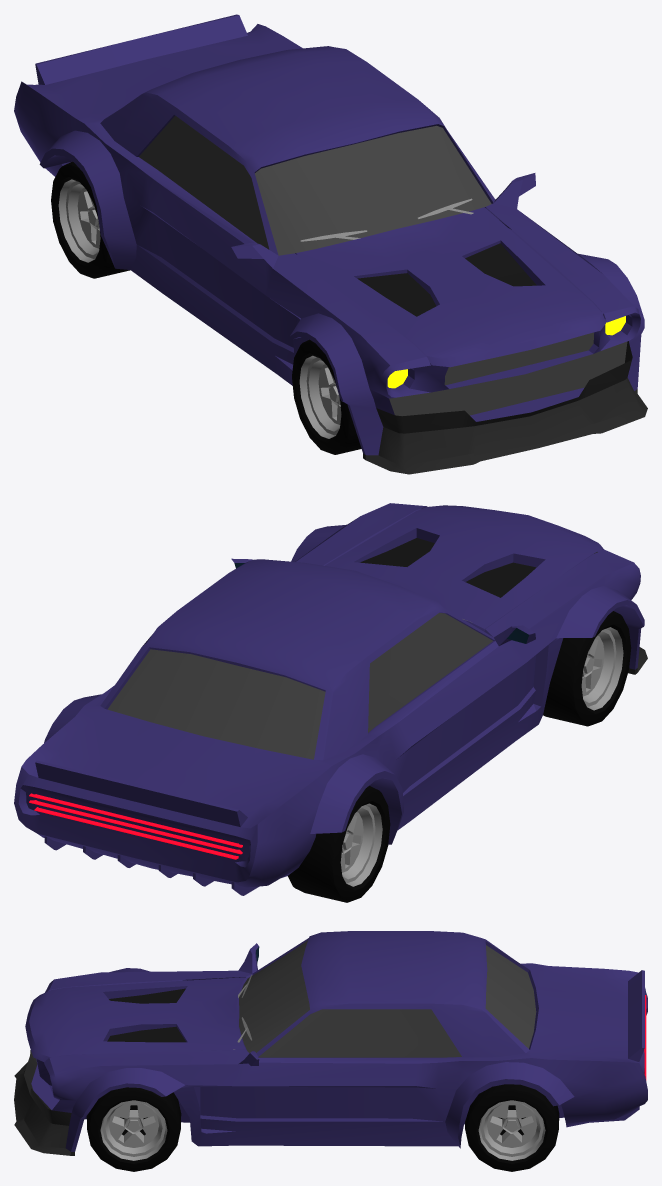
Rendered from Apex.glb.
The picture shows the model from 3 angles, top to bottom: view 1: azimuth 30°, elevation 25°; view 2: azimuth 150°, elevation 25°; view 3: azimuth 270°, elevation 25°; orthographic projection. The views are drawn at different scales.
Visible parts, largest first — view 1: Body.002, WheelFronRight.001, WheelBackRright.001; view 2: Body.002, WheelFronRight.001, WheelBackRright.001, Body.004; view 3: Body.002, WheelBackLeft.001, WheelFrontLeft.001.
Boxes of the visible parts, x1,y1,x2,y2 form: Body.002: (14, 14, 647, 474); WheelFronRight.001: (292, 339, 361, 454); WheelBackRright.001: (51, 161, 130, 278); Body.002: (14, 503, 647, 895); WheelFronRight.001: (543, 611, 631, 726); WheelBackRright.001: (288, 786, 390, 902); Body.004: (29, 793, 242, 859); Body.002: (14, 931, 647, 1155); WheelBackLeft.001: (465, 1084, 559, 1171); WheelFrontLeft.001: (86, 1087, 181, 1171).
Size of the model in its own units: 2.92 by 1.88 by 6.71.
Materials: 5 (1 with a texture image).
